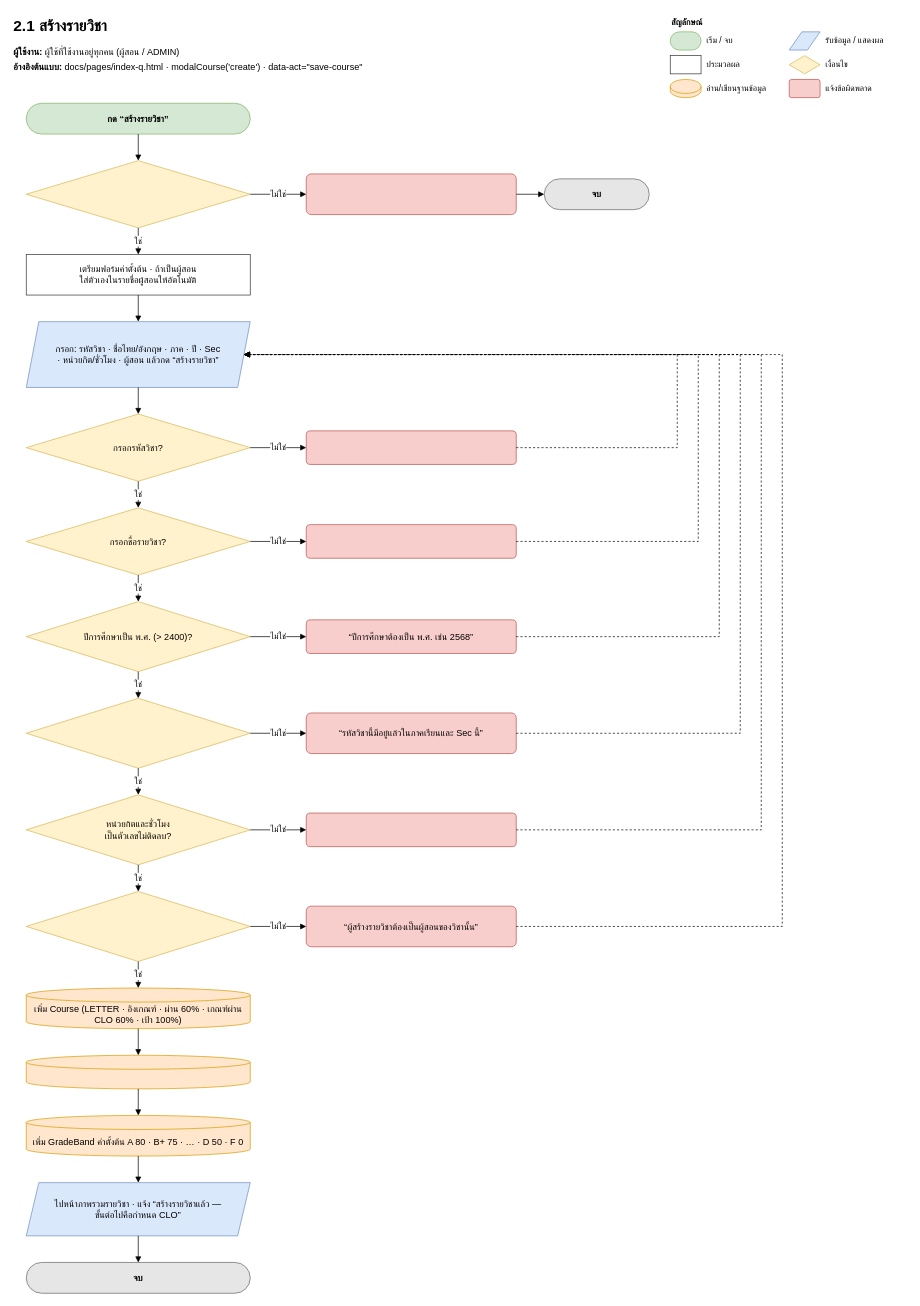
Some shapes in this 920 by 1306 pixel diagram are drawn without their labels. The centre of each missing label's shape, as x and y in pixels:
(รหัสวิชา, ภาค, ปี, Sec) ไม่ซ้ำรายวิชาอื่น?: [138,733]
ผู้สร้างเป็น ADMIN หรือ อยู่ในรายชื่อผู้สอน?: [138,926]
มีสิทธิ์ course.create ?: [138,194]
เพิ่ม CourseInstructor ตามรายชื่อผู้สอน: [138,1072]
แจ้ง “สิทธิ์ไม่พอ …” + บันทึก AuthEvent DENY: [411,194]
“กรอกชื่อรายวิชาก่อน”: [411,541]
“กรอกรหัสวิชาก่อน”: [411,447]
“ต้องเป็นตัวเลขไม่ติดลบ (0 ใส่ได้)”: [411,829]
